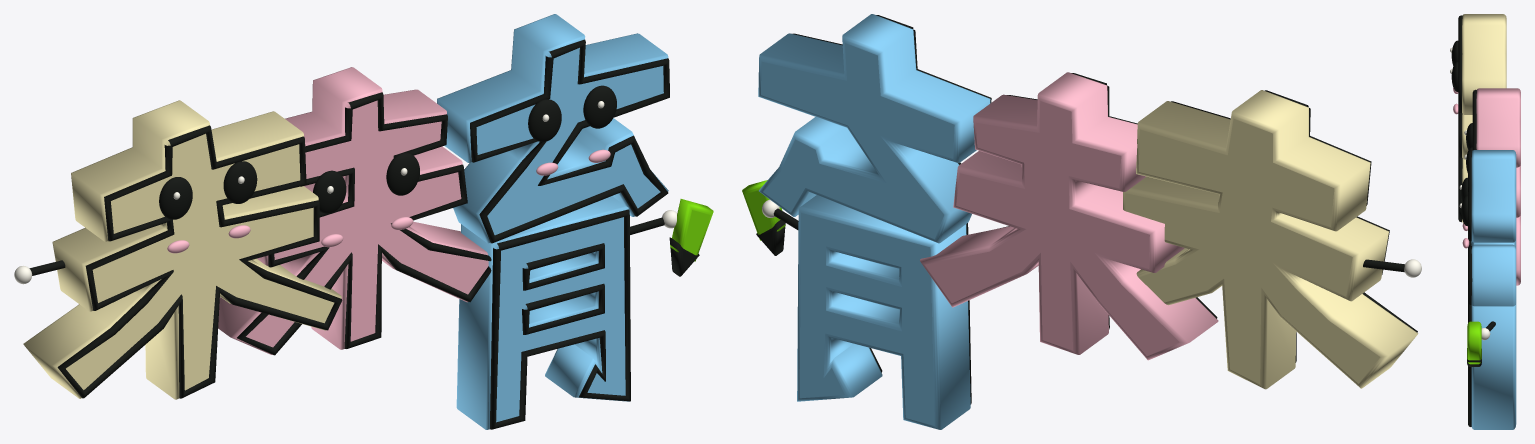
The model's file is 03_miraikun.glb.
The picture shows the model from 3 angles, left to right: view 1: azimuth 30°, elevation 25°; view 2: azimuth 150°, elevation 25°; view 3: azimuth 270°, elevation 25°; orthographic projection. The views are drawn at different scales.
Visible parts, largest first — view 1: 未, 来, 育 top, 育 bottom, 未 outline, 来 outline, 育 top outline, 育 bottom outline, Small green pencil, 育 bottom hole.001, 育 bottom hole, Letter eye.005 (+5 smaller); view 2: 未, 来, 育 top, 育 bottom, Small green pencil, 未 outline; view 3: 育 top, 育 bottom, 未, 来, 未 outline, Small green pencil, 育 top outline, 育 bottom outline, 来 outline, Letter eye.001, Letter eye.005, Letter eye.002 (+4 smaller).
Boxes of the visible parts, left/top/right/bottom form: 未: left=23, top=100, right=341, bottom=399; 来: left=218, top=67, right=488, bottom=354; 育 top: left=437, top=14, right=668, bottom=243; 育 bottom: left=456, top=196, right=629, bottom=429; 未 outline: left=57, top=125, right=342, bottom=398; 来 outline: left=237, top=92, right=491, bottom=355; 育 top outline: left=470, top=39, right=669, bottom=243; 育 bottom outline: left=490, top=209, right=630, bottom=429; Small green pencil: left=670, top=199, right=713, bottom=261; 育 bottom hole.001: left=522, top=283, right=604, bottom=334; 育 bottom hole: left=522, top=243, right=604, bottom=290; Letter eye.005: left=583, top=85, right=616, bottom=128; 未: left=1123, top=90, right=1418, bottom=389; 来: left=920, top=72, right=1218, bottom=360; 育 top: left=758, top=14, right=990, bottom=243; 育 bottom: left=797, top=195, right=970, bottom=429; Small green pencil: left=742, top=180, right=785, bottom=240; 未 outline: left=1171, top=90, right=1417, bottom=362; 育 top: left=1471, top=150, right=1516, bottom=306; 育 bottom: left=1471, top=303, right=1516, bottom=429; 未: left=1462, top=14, right=1506, bottom=222; 来: left=1476, top=88, right=1520, bottom=285; 未 outline: left=1458, top=15, right=1462, bottom=222; Small green pencil: left=1467, top=321, right=1481, bottom=364; 育 top outline: left=1468, top=151, right=1472, bottom=305; 育 bottom outline: left=1468, top=303, right=1471, bottom=426; 来 outline: left=1472, top=89, right=1476, bottom=150; Letter eye.001: left=1451, top=62, right=1458, bottom=91; Letter eye.005: left=1461, top=196, right=1467, bottom=226; Letter eye.002: left=1466, top=123, right=1472, bottom=149.
Size of the model in its own units: 1.65 by 0.9 by 0.2196.
